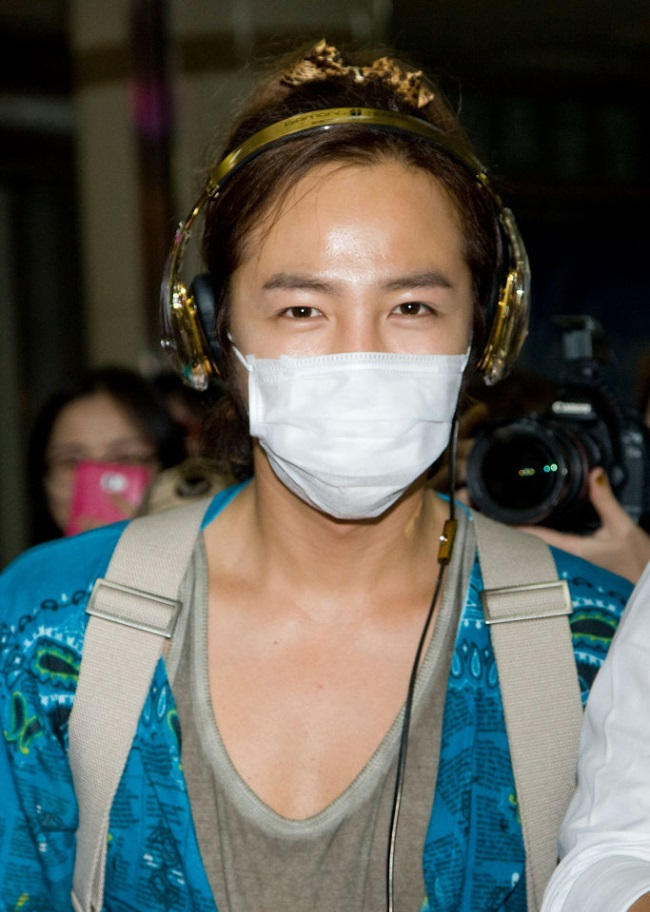face: (46, 399, 153, 541)
face_mask: (237, 144, 466, 522)
